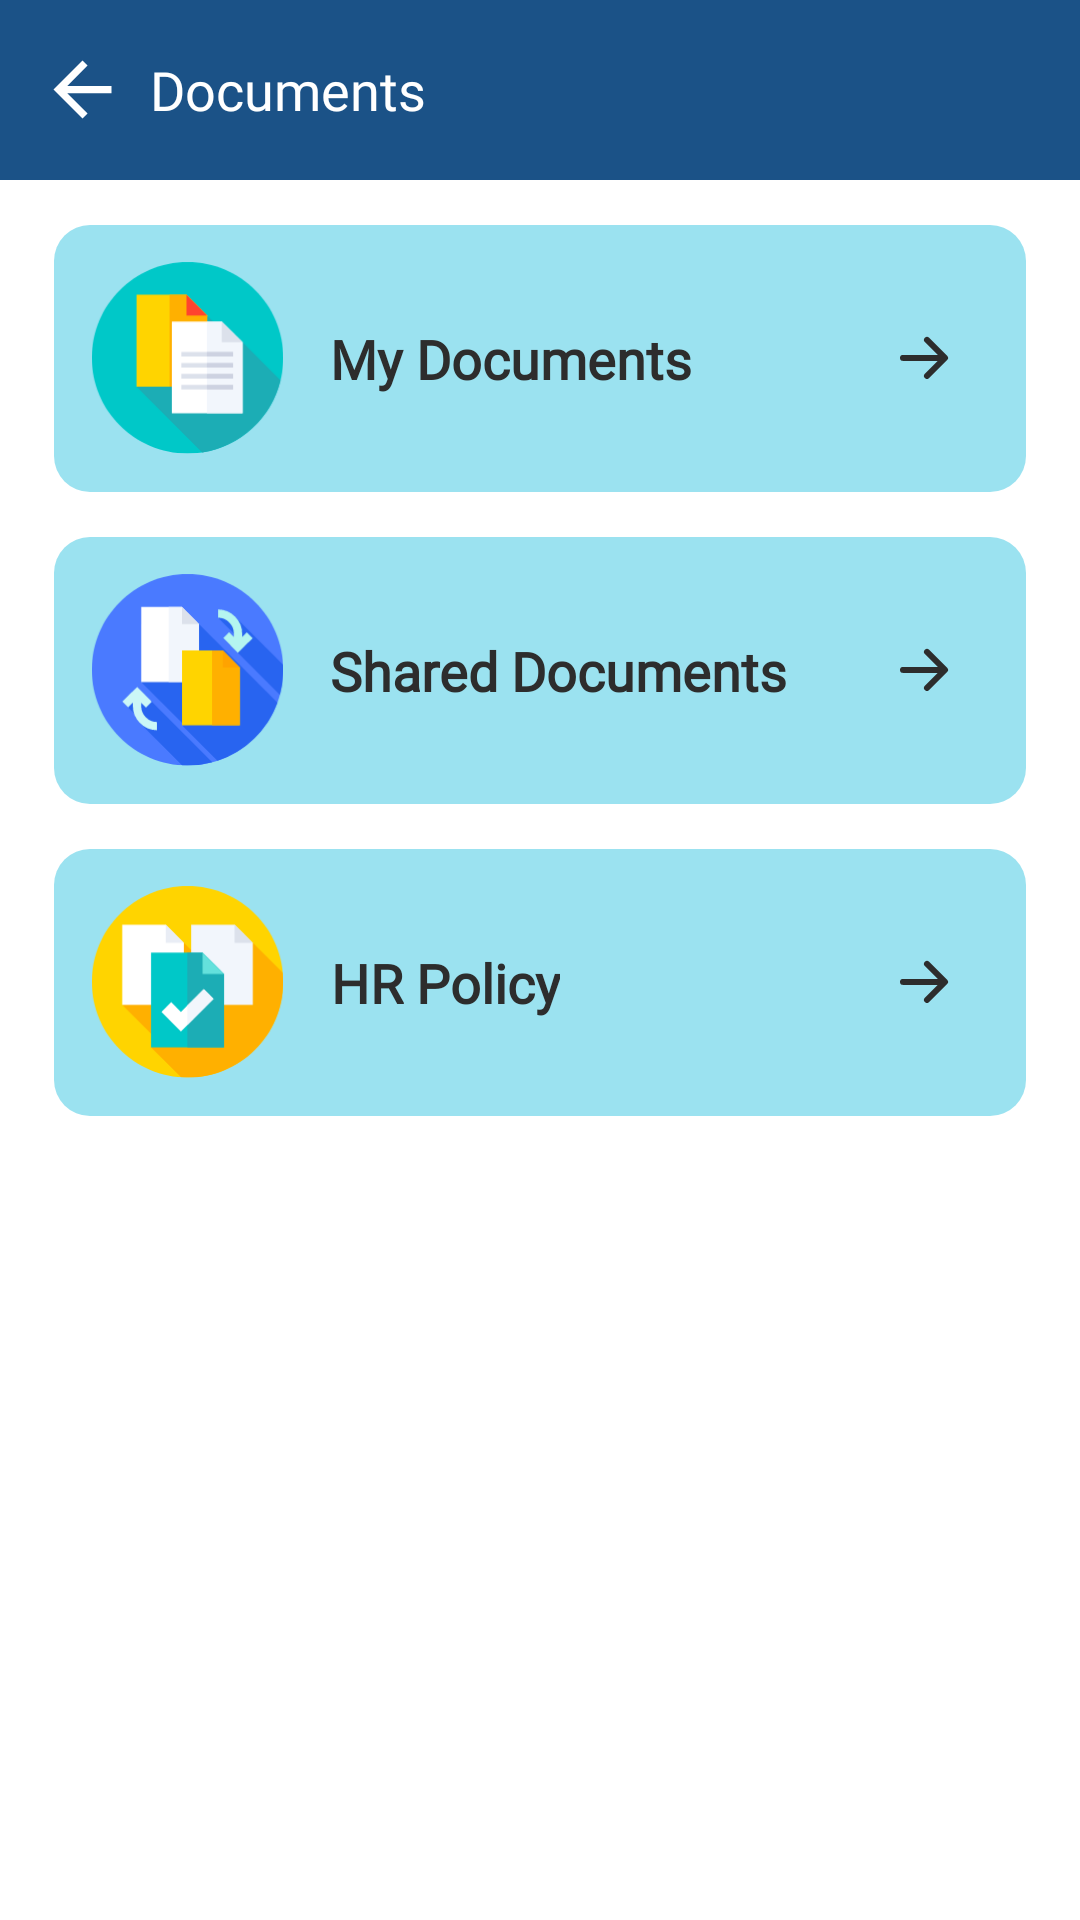

Where to tap for icons on this 1080 × 1920 app screen, as (x=x, y=y):
policies: (x=187, y=982)
share documents: (x=187, y=670)
